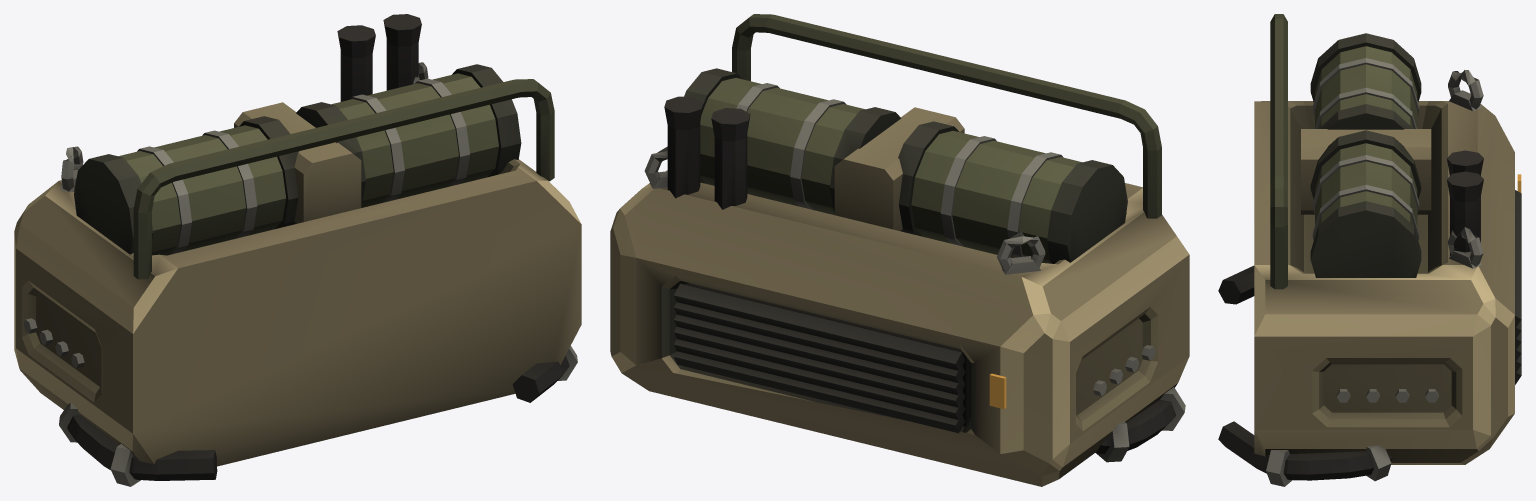
The model's file is pack-standin.glb.
The picture shows the model from 3 angles, left to right: view 1: azimuth 30°, elevation 25°; view 2: azimuth 150°, elevation 25°; view 3: azimuth 270°, elevation 25°; orthographic projection. The views are drawn at different scales.
Visible parts, largest first — view 1: Body; view 2: Body; view 3: Body.
Part boxes in pixels (bbox=[...]): Body: bbox=[14, 14, 581, 486]; Body: bbox=[610, 14, 1189, 486]; Body: bbox=[1218, 14, 1521, 486].
Bounding box in the file's own units: 1.63 × 1.02 × 0.9777.
